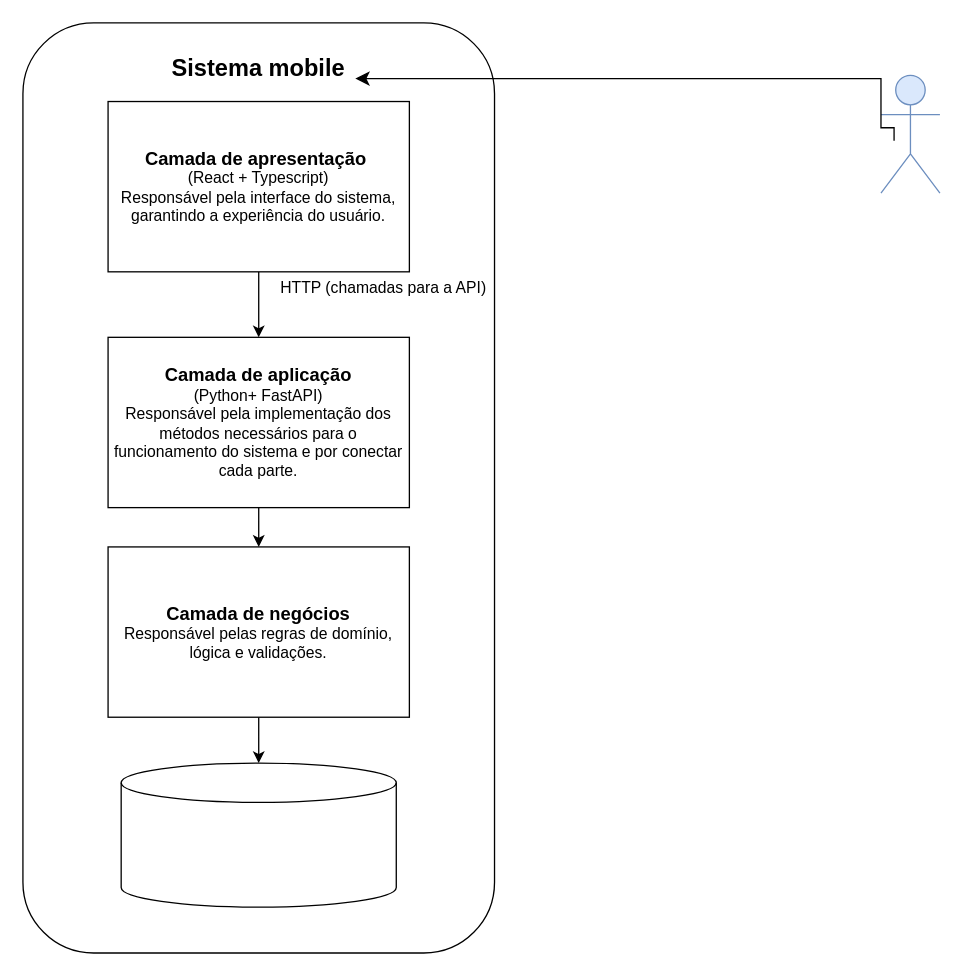
Image size: 963x976. Some labels were removed from this diagram. Each missing label, with the centre of its shape:
"Actor" belongs at (910,133).
"Camada de dados (MySQL) Responsável por armazenar e recuperar informações." belongs at (258,834).
